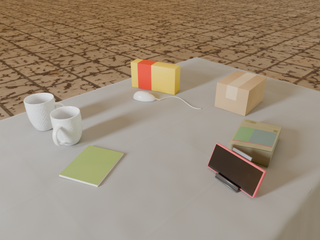book: (227, 119, 282, 168), (59, 145, 123, 187)
box: (215, 71, 267, 116), (131, 59, 180, 95)
cup: (24, 93, 64, 131), (50, 106, 82, 146)
mouse: (134, 91, 156, 101)
phone: (208, 143, 266, 198)
